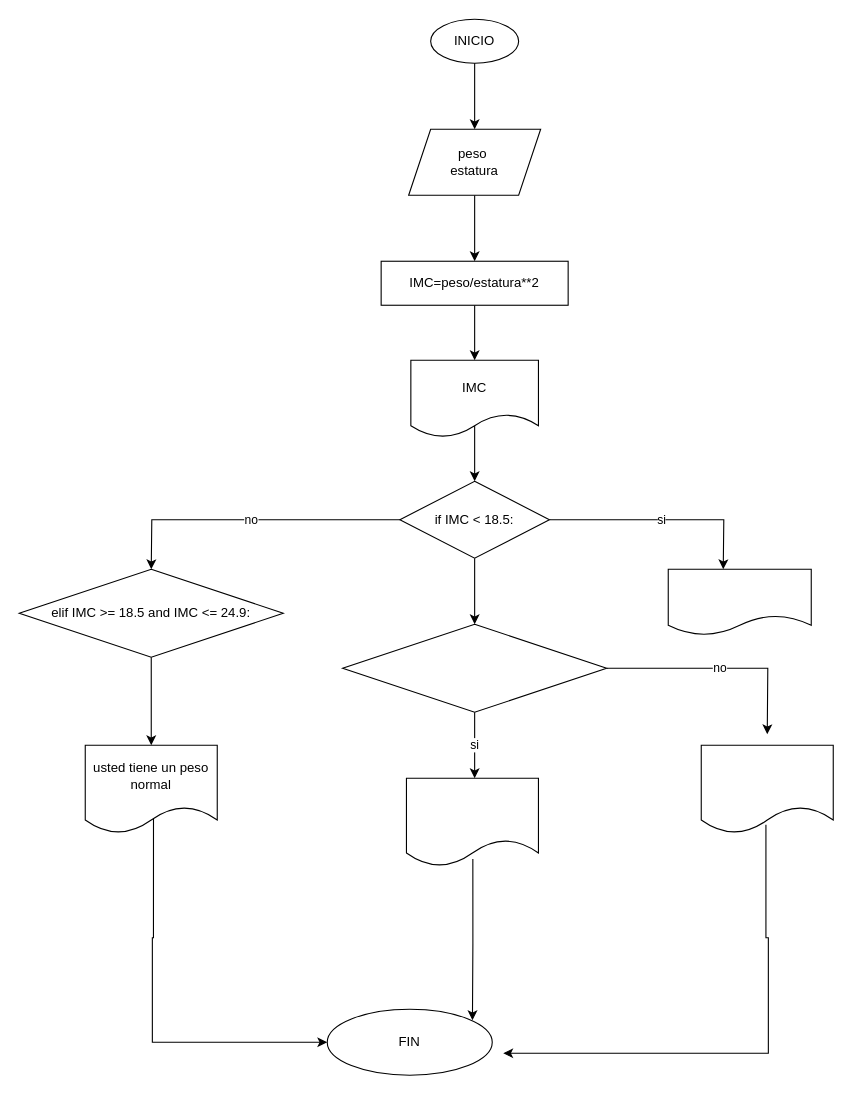
Image size: 853x1095. Some labels were removed from this diagram. The centre of each missing label's shape, as x and y in pixels:
elif IMC >= 25 and IMC <= 29.9:: (x=474, y=667)
Usted tiene Bajo peso: (x=739, y=601)
usted tiene obesidad: (x=766, y=788)
usted tiene sobre peso: (x=471, y=821)
